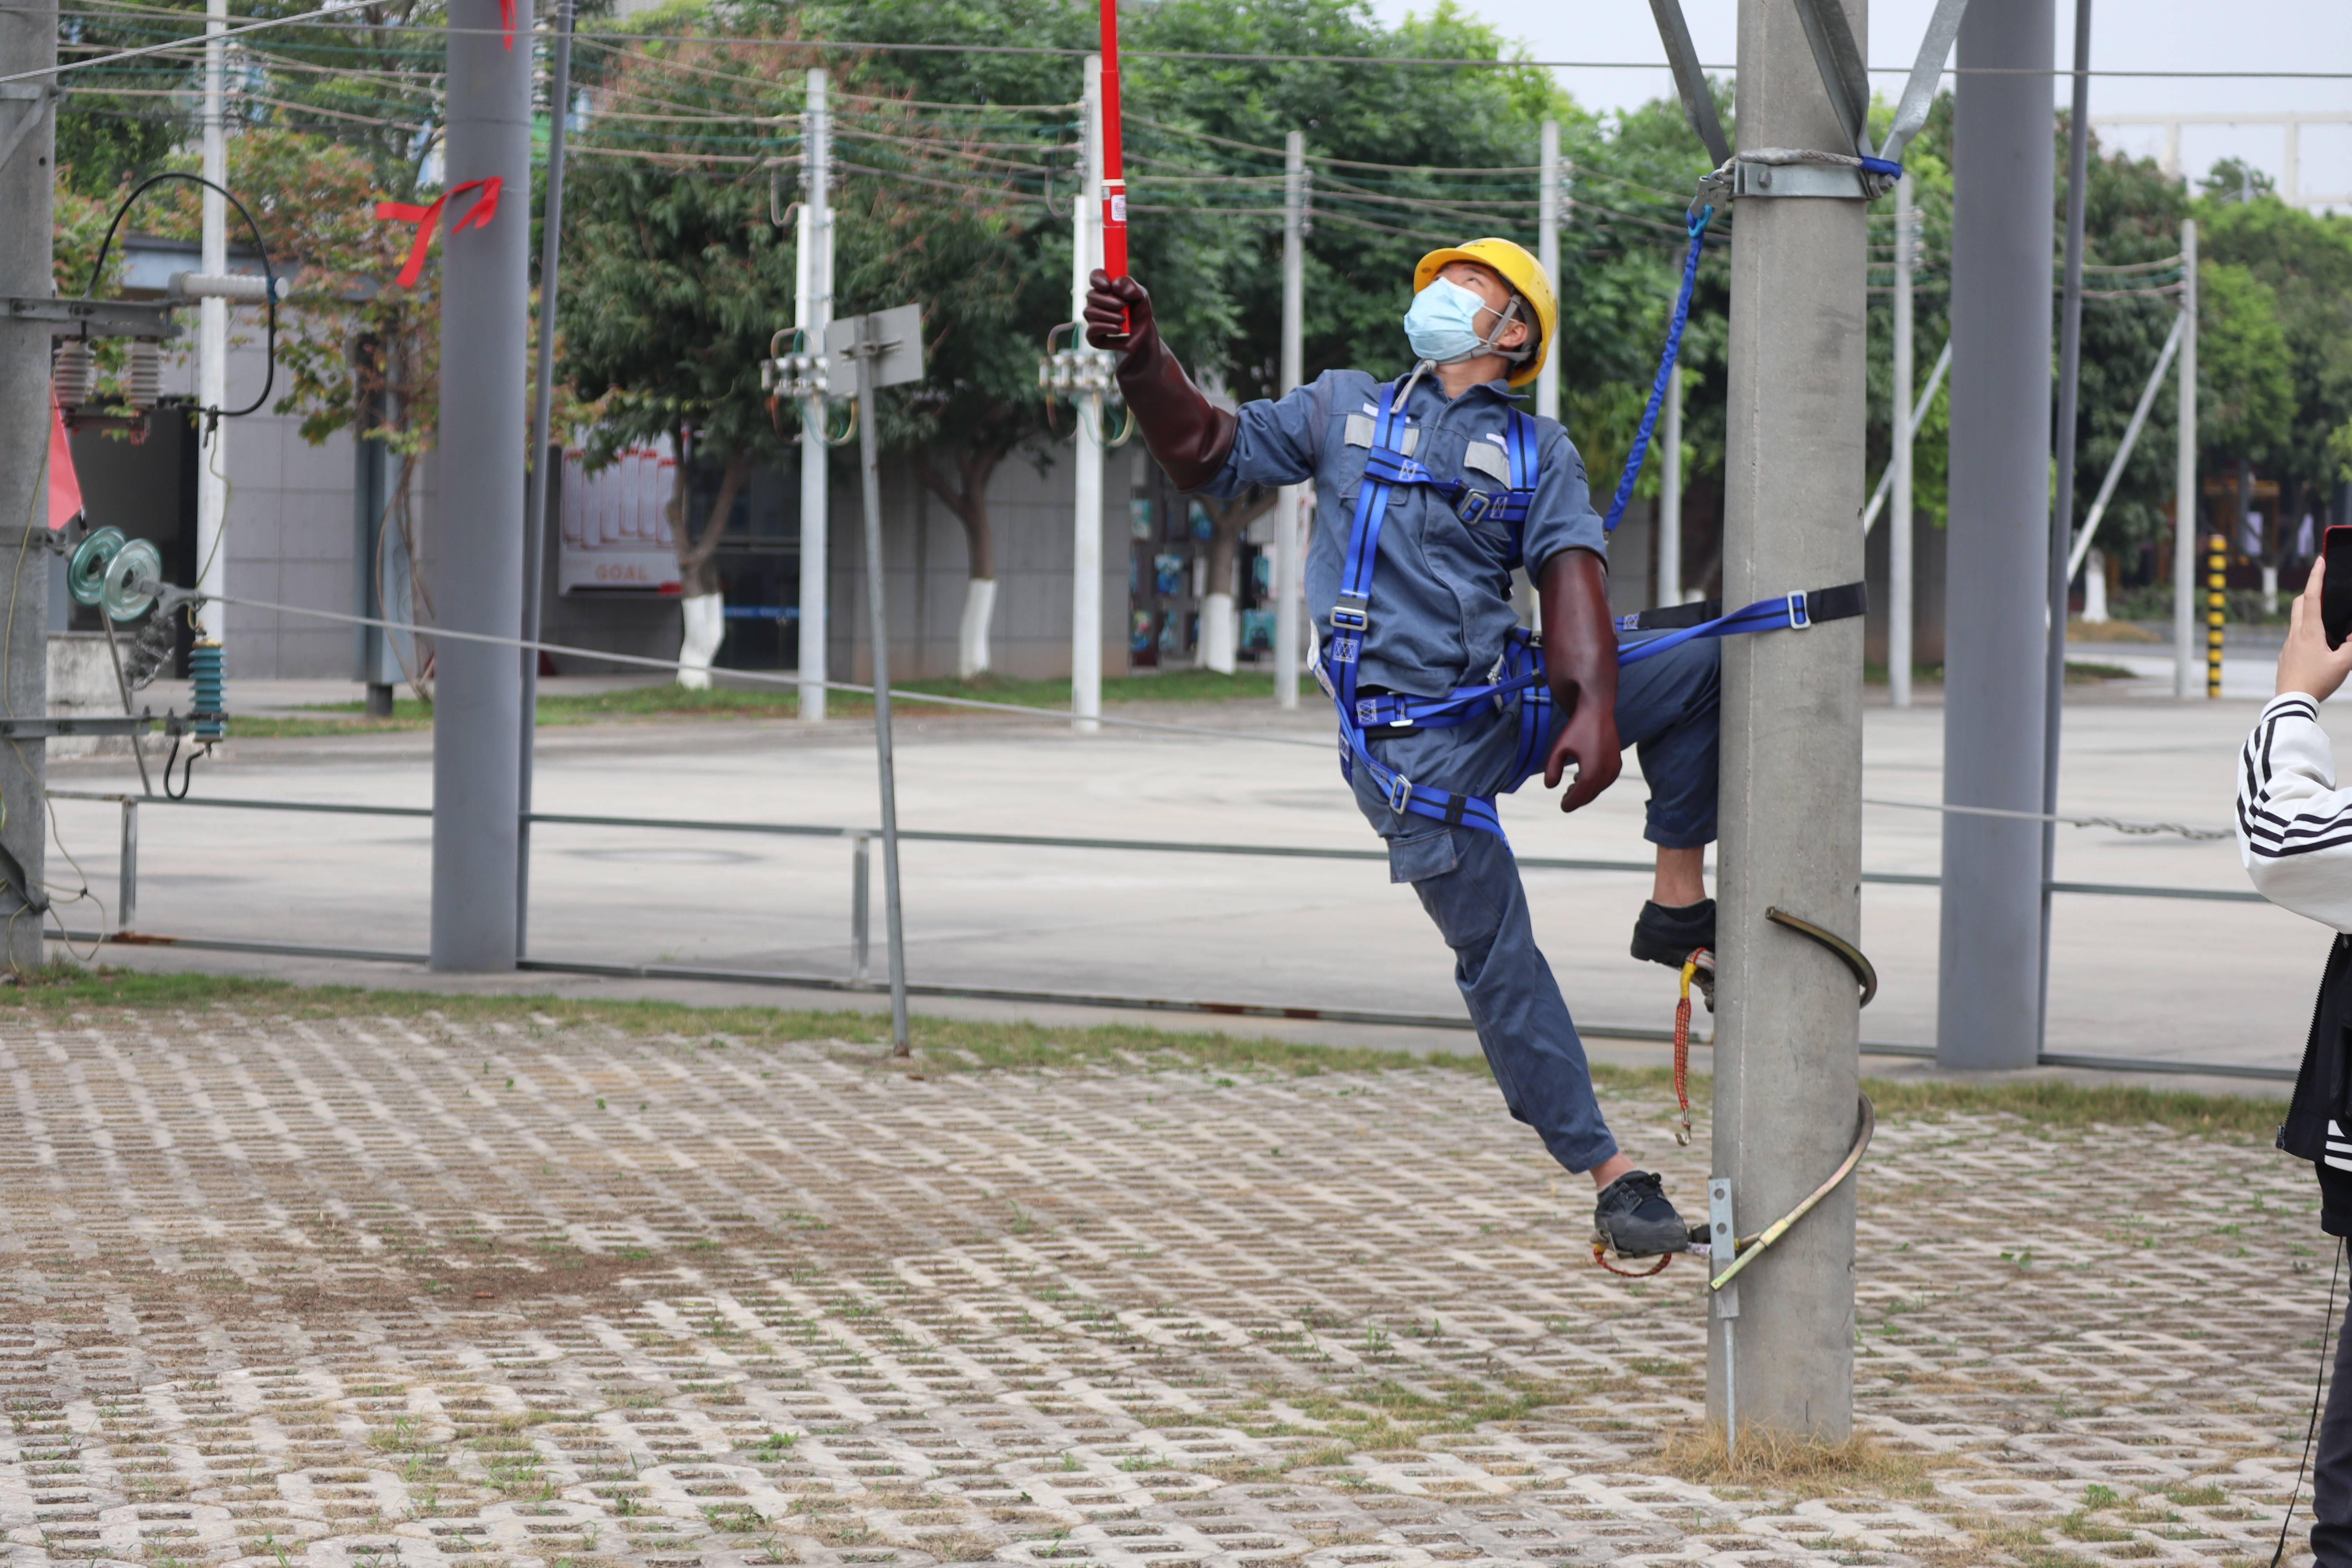downsuit: (1346, 642, 1724, 1186)
upcloth: (2221, 660, 2352, 1223)
upsuit: (1241, 357, 1591, 674)
